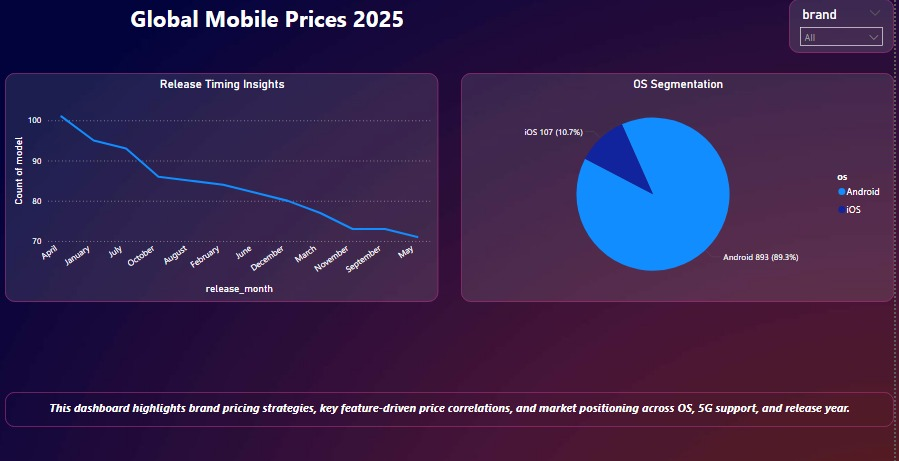

The page's visual inventory and layout, read from the dashboard file:
{"tool":"powerbi","page":{"name":"Page 2","canvas":[1280,720],"ordinal":1},"visuals":[{"type":"pieChart","title":"OS Segmentation","fields":{"Category":["Global_Mobile_Prices_2025_Extended.os"],"Y":["CountNonNull(Global_Mobile_Prices_2025_Extended.model)"]},"box":[661.4,105.7,618.6,327.1],"z":0},{"type":"lineChart","title":"Release Timing Insights","fields":{"Category":["Global_Mobile_Prices_2025_Extended.release_month"],"Y":["CountNonNull(Global_Mobile_Prices_2025_Extended.model)"]},"box":[10,105.7,618.6,327.1],"z":1000},{"type":"textbox","title":"Global Mobile Prices 2025","box":[0,0,770,61.7],"z":3001},{"type":"slicer","fields":{"Values":["Global_Mobile_Prices_2025_Extended.brand"]},"box":[1130,0,150,76.7],"z":3002},{"type":"textbox","box":[10,561.4,1270,50],"z":3003}]}

Visuals, with their boxes on the page's 1280x720 design canvas (x1, y1, x2, y2). These are canvas units, not pixel positions in the 899x461 screenshot, which may show the page scaled, cropped or inside an application window:
"OS Segmentation" pieChart: 661/106/1280/433
"Release Timing Insights" lineChart: 10/106/629/433
"Global Mobile Prices 2025" textbox: 0/0/770/62
slicer - Global_Mobile_Prices_2025_Extended.brand: 1130/0/1280/77
textbox: 10/561/1280/611
